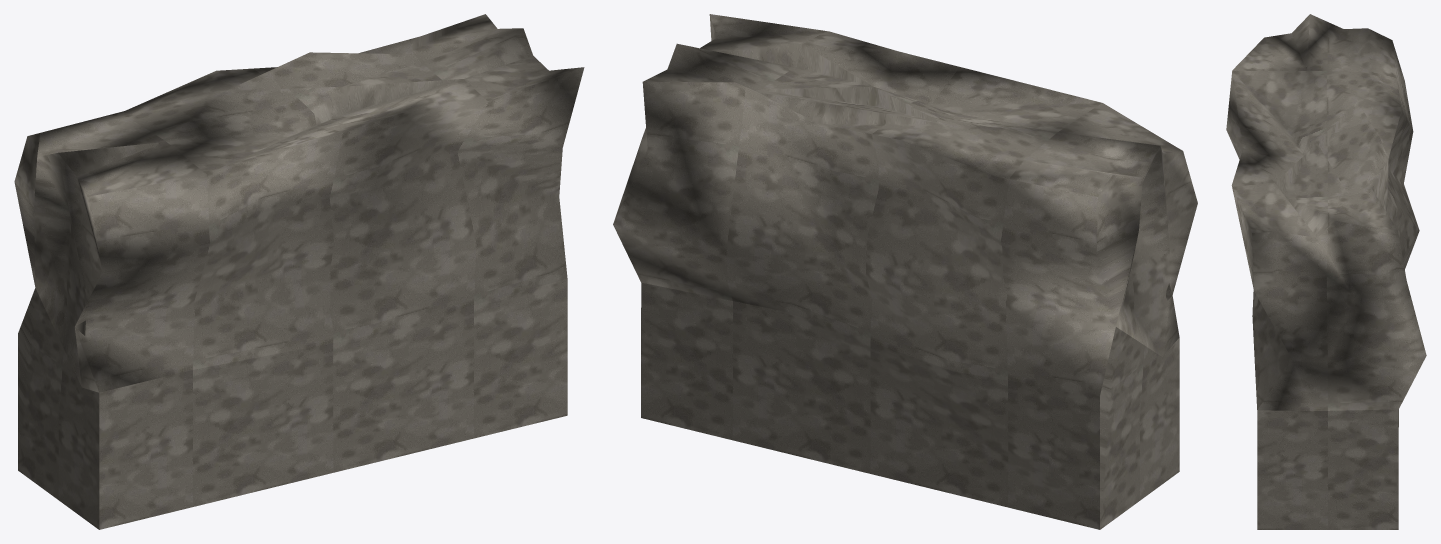
File: cliff_section_lod1.glb
3 renders of one model, left to right at view 1: azimuth 30°, elevation 25°; view 2: azimuth 150°, elevation 25°; view 3: azimuth 270°, elevation 25°, orthographic. The views are drawn at different scales.
Parts seen in each view (by area): view 1: m; view 2: m; view 3: m.
Boxes of the visible parts, x1,y1,x2,y2 form: m: (14, 14, 584, 529); m: (613, 14, 1197, 529); m: (1226, 14, 1426, 529).
Bounding box in the file's own units: 10.56 × 7.3 × 4.25.
1 material, 1 textured.
